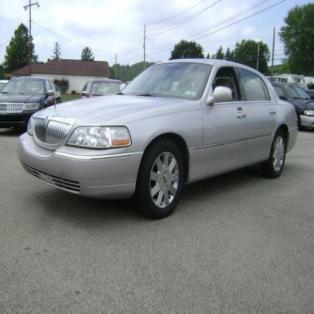Auto: (16, 55, 300, 220)
